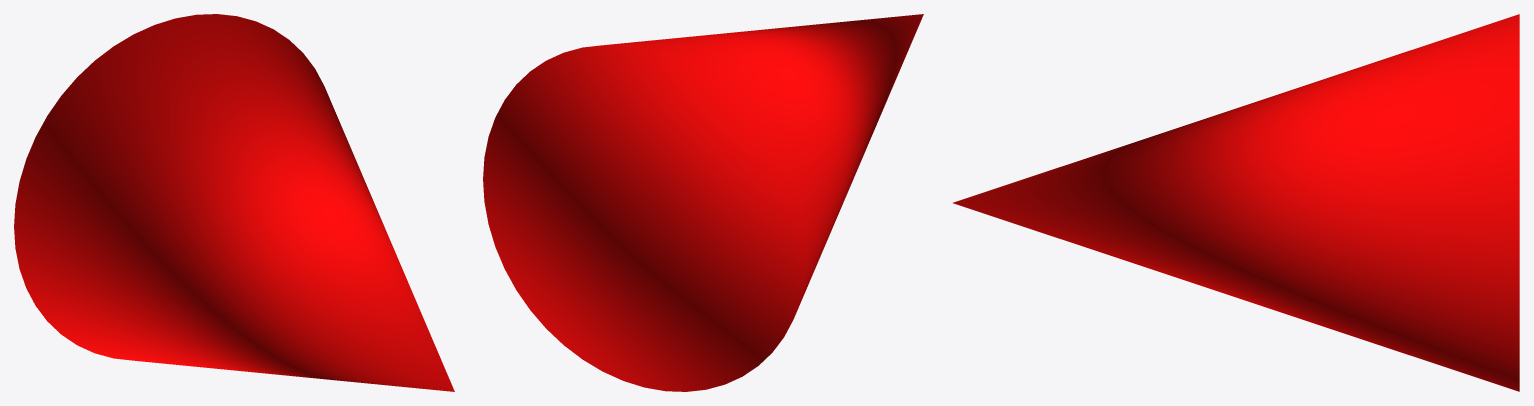
The model's file is cone_red.obj.
3 renders of one model, left to right at view 1: azimuth 30°, elevation 25°; view 2: azimuth 150°, elevation 25°; view 3: azimuth 270°, elevation 25°, orthographic.
Visible parts, largest first — view 1: obj_0; view 2: obj_0; view 3: obj_0.
Boxes of the visible parts, x1,y1,x2,y2 form: obj_0: (14,14,454,391); obj_0: (483,14,923,391); obj_0: (953,14,1519,391).
Size of the model in its own units: 20 by 20 by 30.
